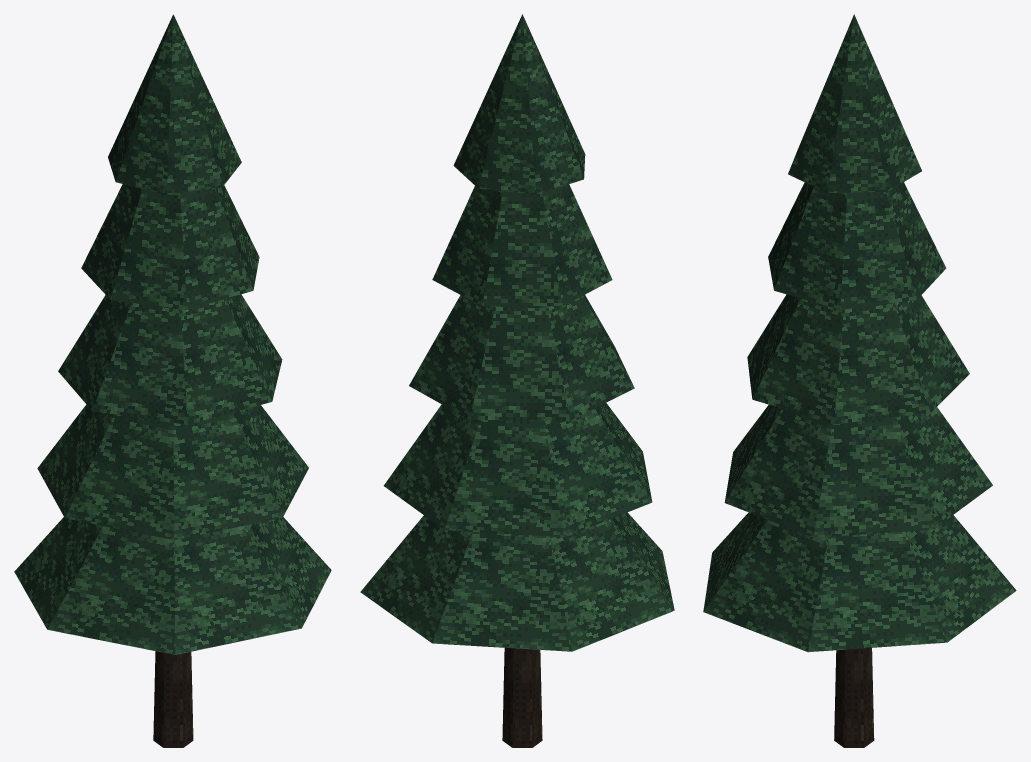
The model's file is arbol_pino_alto.obj.
The picture shows the model from 3 angles, left to right: view 1: azimuth 30°, elevation 25°; view 2: azimuth 150°, elevation 25°; view 3: azimuth 270°, elevation 25°; orthographic projection.
Parts seen in each view (by area): view 1: arbol_pino_alto; view 2: arbol_pino_alto; view 3: arbol_pino_alto.
Boxes of the visible parts, x1,y1,x2,y2 form: arbol_pino_alto: (14, 14, 331, 747); arbol_pino_alto: (360, 14, 674, 747); arbol_pino_alto: (703, 14, 1016, 747).
Size of the model in its own units: 2.53 by 6.4 by 2.5.
Materials: 2 (2 with a texture image).
